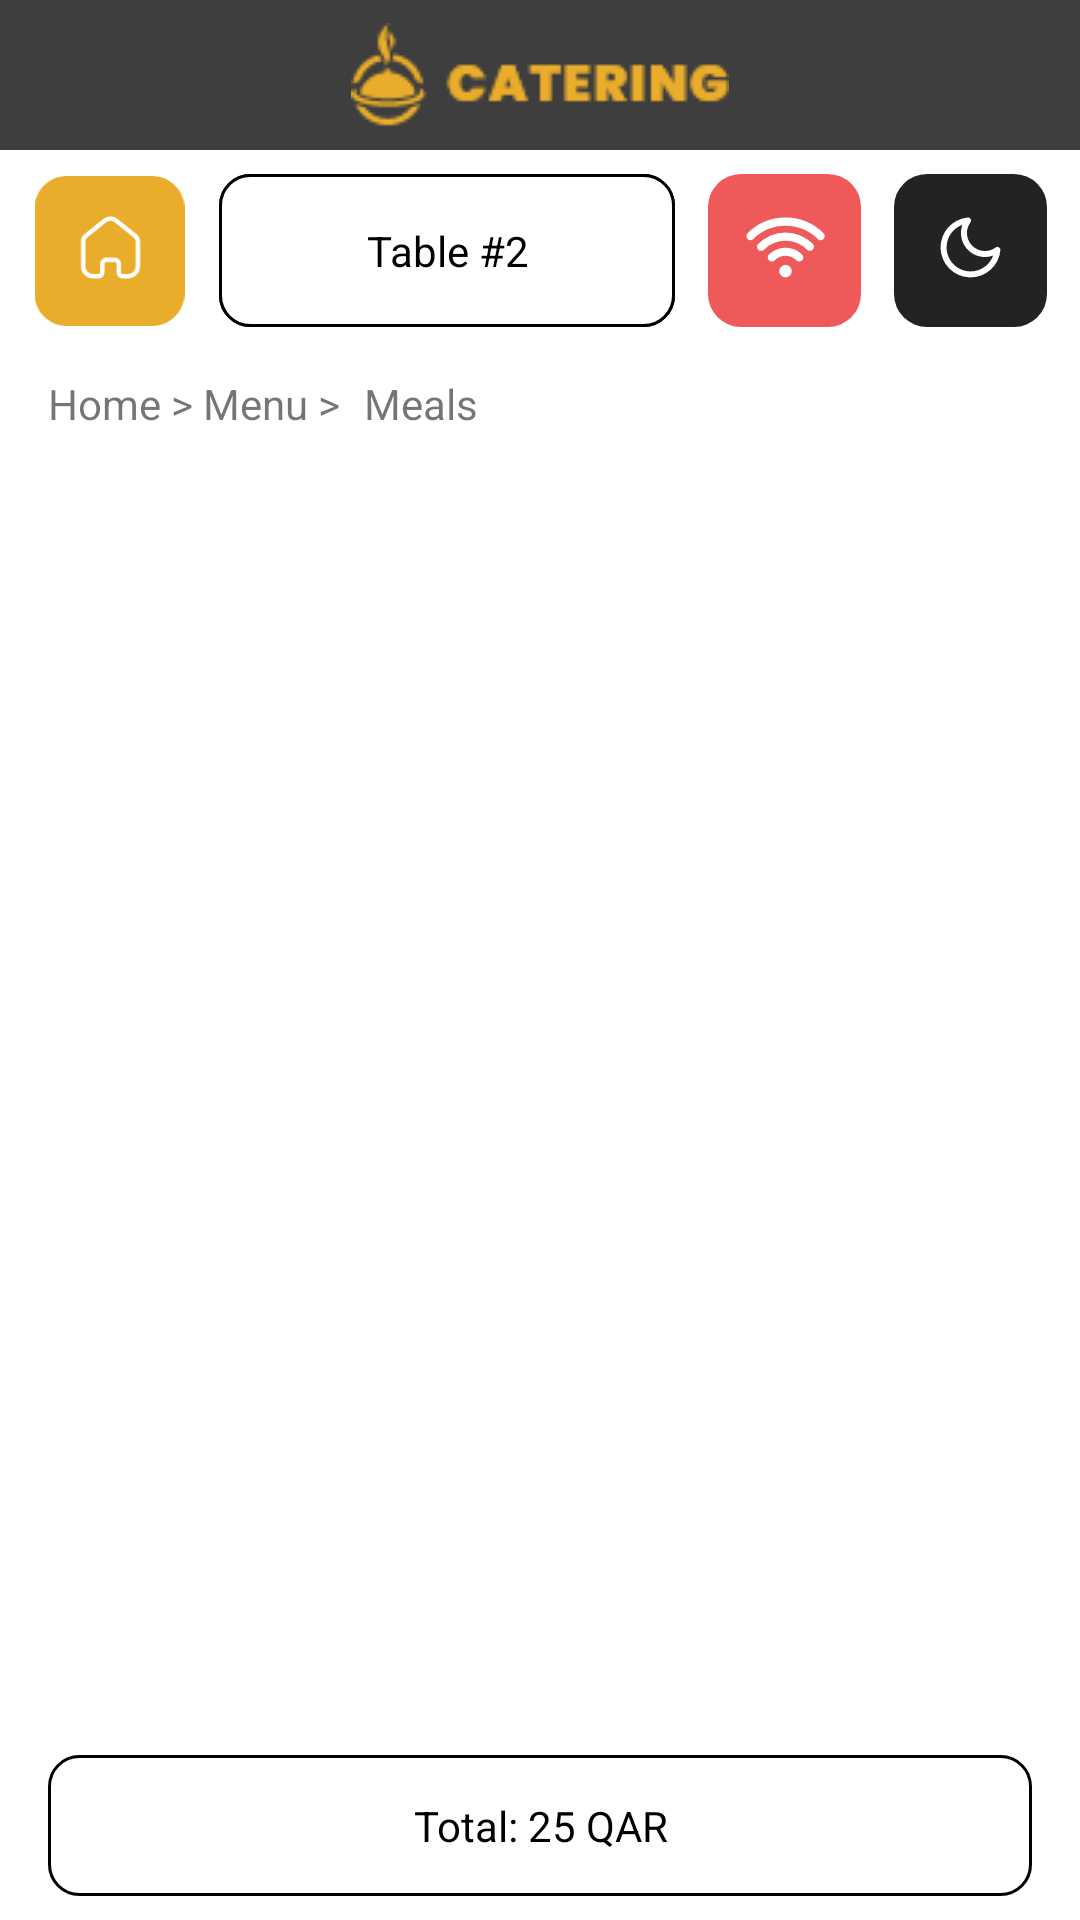

Icon bounding boxes for this 1080 x 1920 phone screenshot, format (x1, y1, x2, y2):
homw: (35, 176, 185, 326)
wifi: (708, 174, 861, 327)
